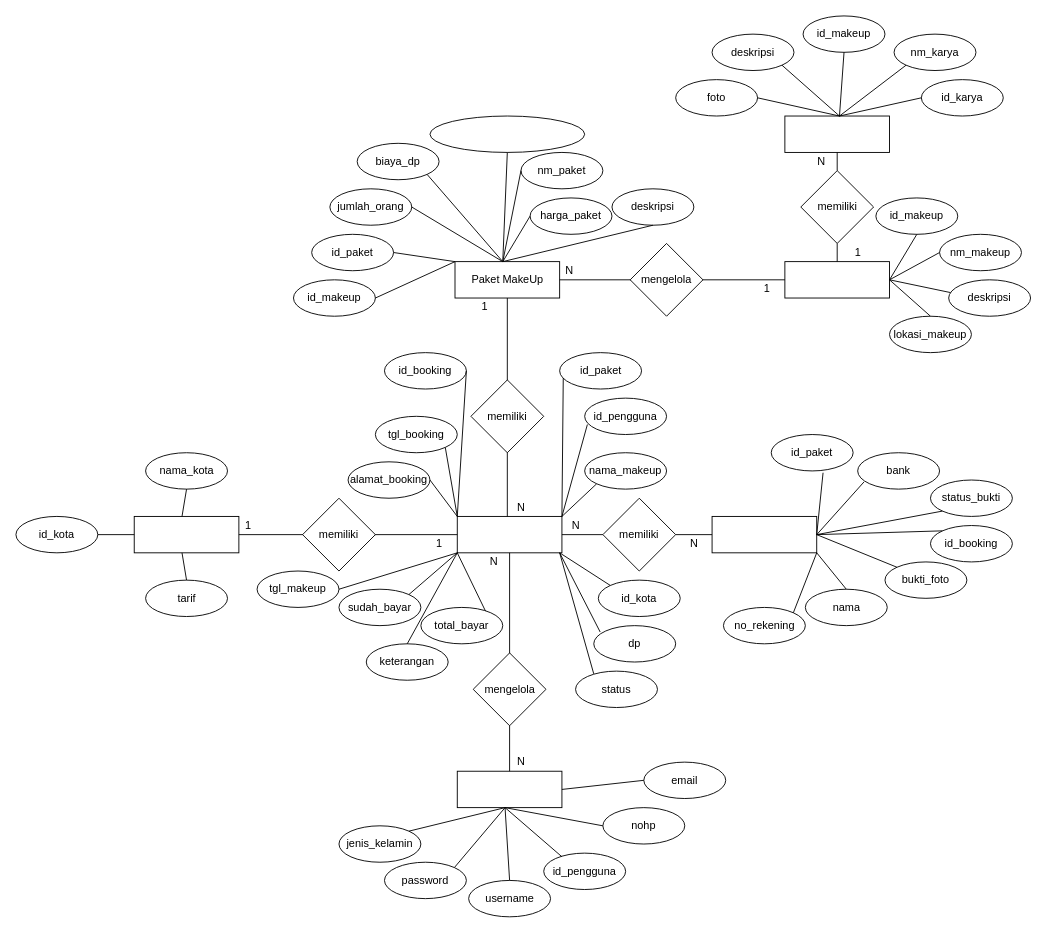
The diagram is 1047 pixels wide and 933 high, and some of its shapes have lost their labels. The box of each missing label's shape, as (x1, y1, x2, y2) in pixels:
batas_booking_per_hari: (429, 115, 585, 152)
Booking: (456, 516, 562, 553)
Bukti Bayar: (711, 516, 817, 553)
Hasil Karya: (784, 115, 890, 152)
Kota: (133, 516, 239, 553)
MakeUp: (784, 261, 890, 298)
Pengguna: (456, 770, 562, 808)
